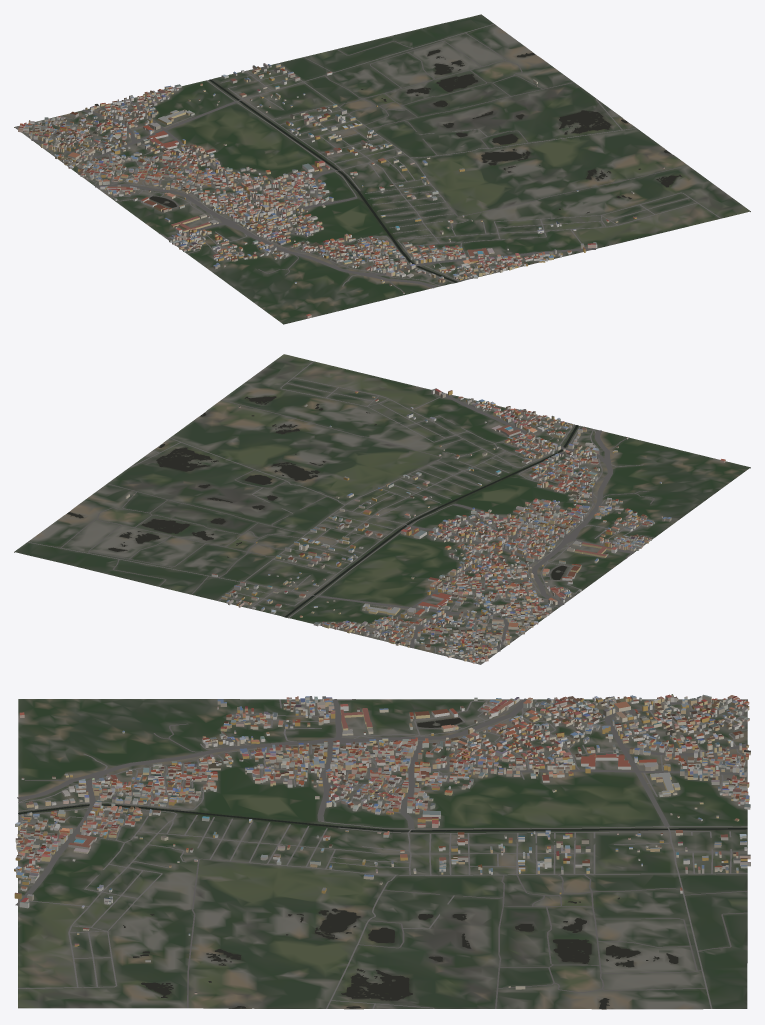
3 renders of one model, top to bottom at view 1: azimuth 30°, elevation 25°; view 2: azimuth 150°, elevation 25°; view 3: azimuth 270°, elevation 25°, orthographic. The views are drawn at different scales.
Visible parts, largest first — view 1: ground, buildings, roads, water; view 2: ground, buildings, roads, water; view 3: ground, buildings, roads, water.
Part boxes in pixels (<box>): ground: <box>14,14,750,324</box>; buildings: <box>18,63,664,317</box>; roads: <box>16,24,721,291</box>; water: <box>149,49,681,282</box>; ground: <box>14,354,750,664</box>; buildings: <box>125,388,725,663</box>; roads: <box>27,361,654,663</box>; water: <box>67,396,578,617</box>; ground: <box>18,699,747,1009</box>; buildings: <box>14,694,750,994</box>; roads: <box>15,698,747,1008</box>; water: <box>18,718,747,1008</box>.
Bounding box in the file's own units: 1407 × 20.78 × 1416.
